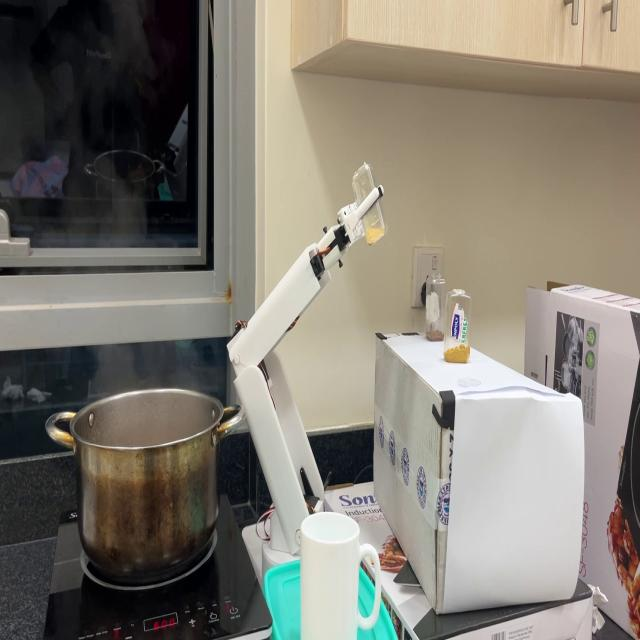cooking_pot: (39, 379, 254, 583)
curry_powder: (448, 346, 470, 363)
garlic_powder: (364, 221, 389, 249)
maggie_open: (427, 328, 444, 342)
